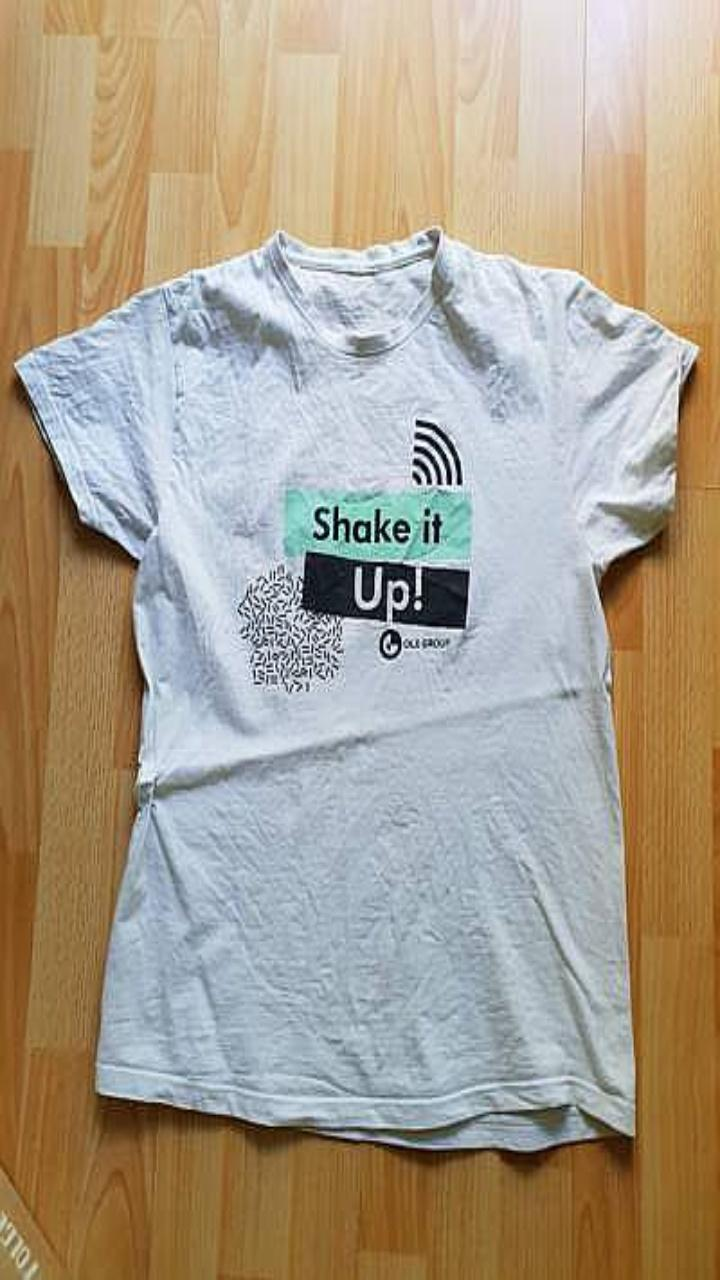T-Shirt: (14, 225, 699, 1150)
